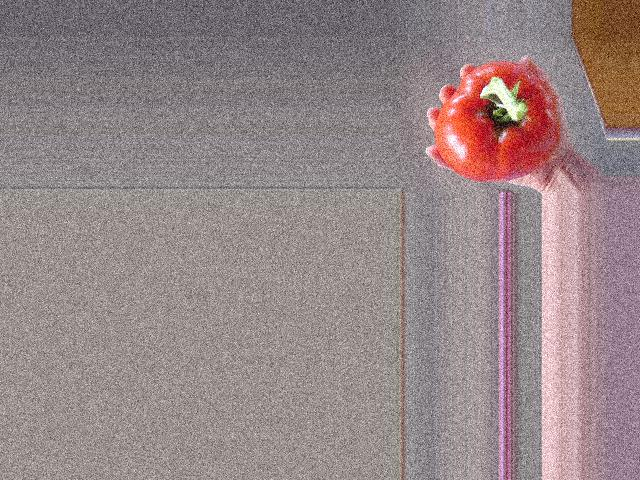tomato: (434, 61, 559, 182)
